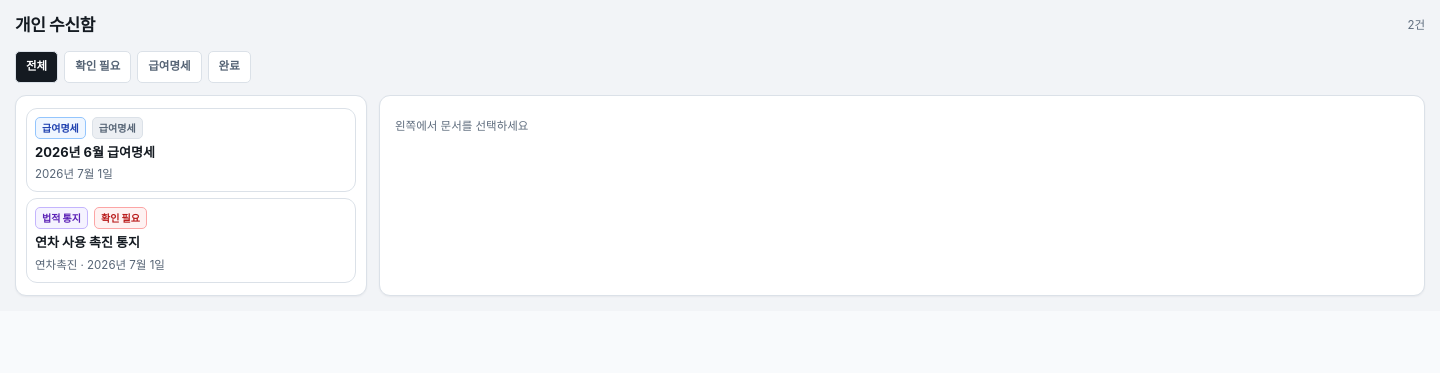
Test case: InboxBody › gates a locked legal notice behind a passkey confirm, then reveals the body
This screenshot has width=1440, height=373.
Click the text "연차 사용 촉진 통지".
click(87, 242)  # box [35,234,140,250]
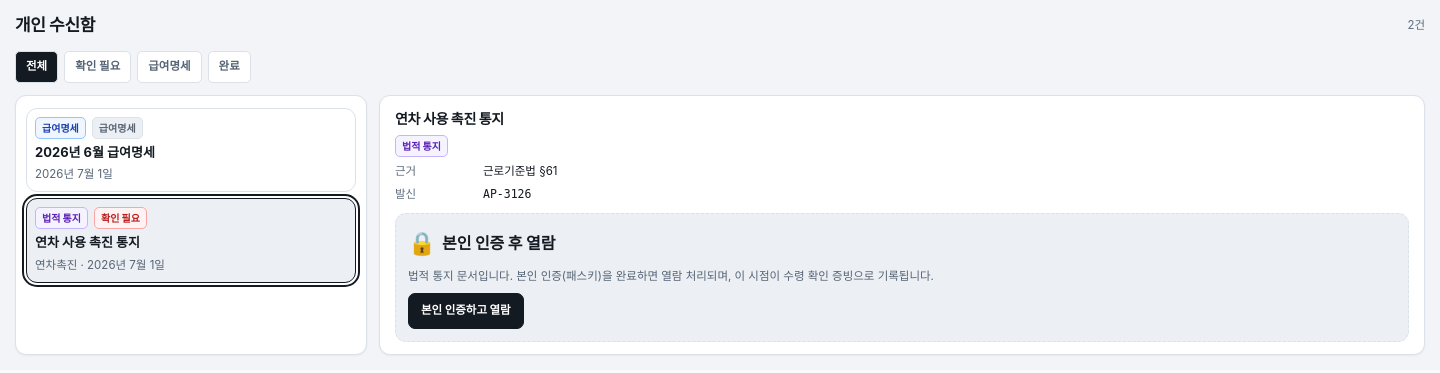
Expected: the text "법적 통지 문서입니다. 본인 인증(패스키)을 완료하면 열람 처리되며, 이 시점이 수령 확인 증빙으로 기록됩니다." is shown, [408,269,934,283]
Click the button "본인 인증하고 열람".
click(466, 311)  # box [408,293,524,329]
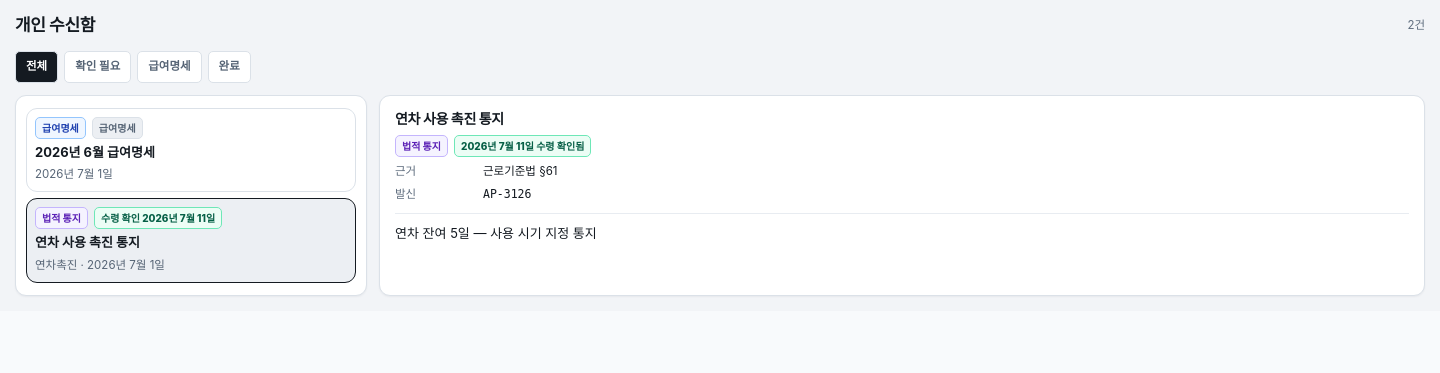
Expected: the text "연차 잔여 5일 — 사용 시기 지정 통지" is shown, [395,225,597,241]
